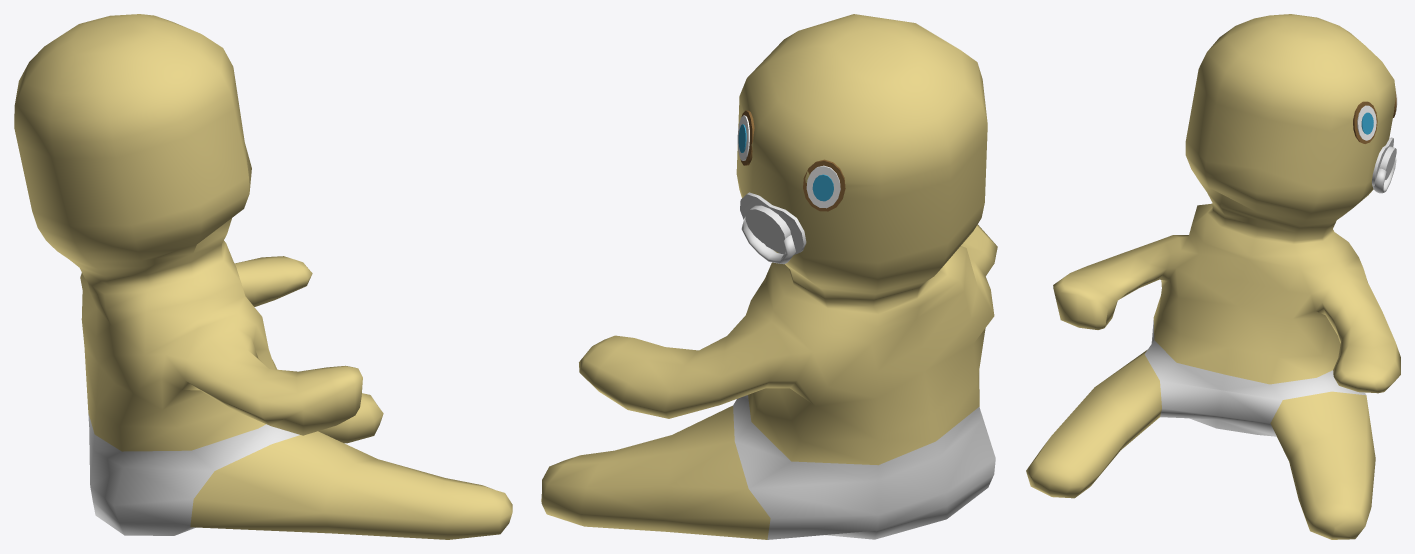
Rendered from baby 1.FBX.
3 views of the same model, side by side, from view 1: azimuth 30°, elevation 25°; view 2: azimuth 150°, elevation 25°; view 3: azimuth 270°, elevation 25° (orthographic). The views are drawn at different scales.
Parts seen in each view (by area): view 1: baby; view 2: baby, Cylinder003, Cylinder002, Line001, Cylinder008, Cylinder007; view 3: baby.
Boxes of the visible parts, x1,y1,x2,y2 form: baby: (14, 14, 512, 539); baby: (541, 14, 997, 539); Cylinder003: (745, 205, 790, 248); Cylinder002: (740, 192, 806, 254); Line001: (741, 217, 795, 264); Cylinder008: (806, 165, 840, 208); Cylinder007: (803, 159, 845, 211); baby: (1026, 14, 1400, 539).
Bounding box in the file's own units: 42.09 × 52.79 × 43.85.
